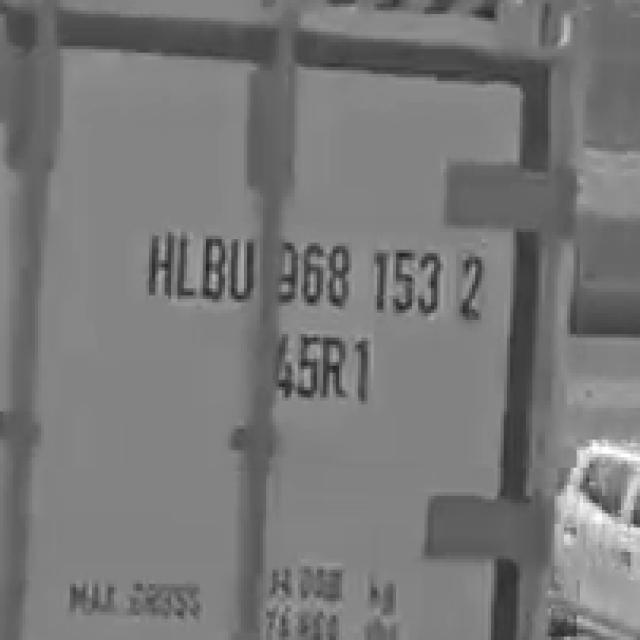dv: (450, 246, 496, 322)
owner: (135, 220, 257, 308)
serial: (268, 230, 444, 320)
size: (259, 321, 404, 414)
